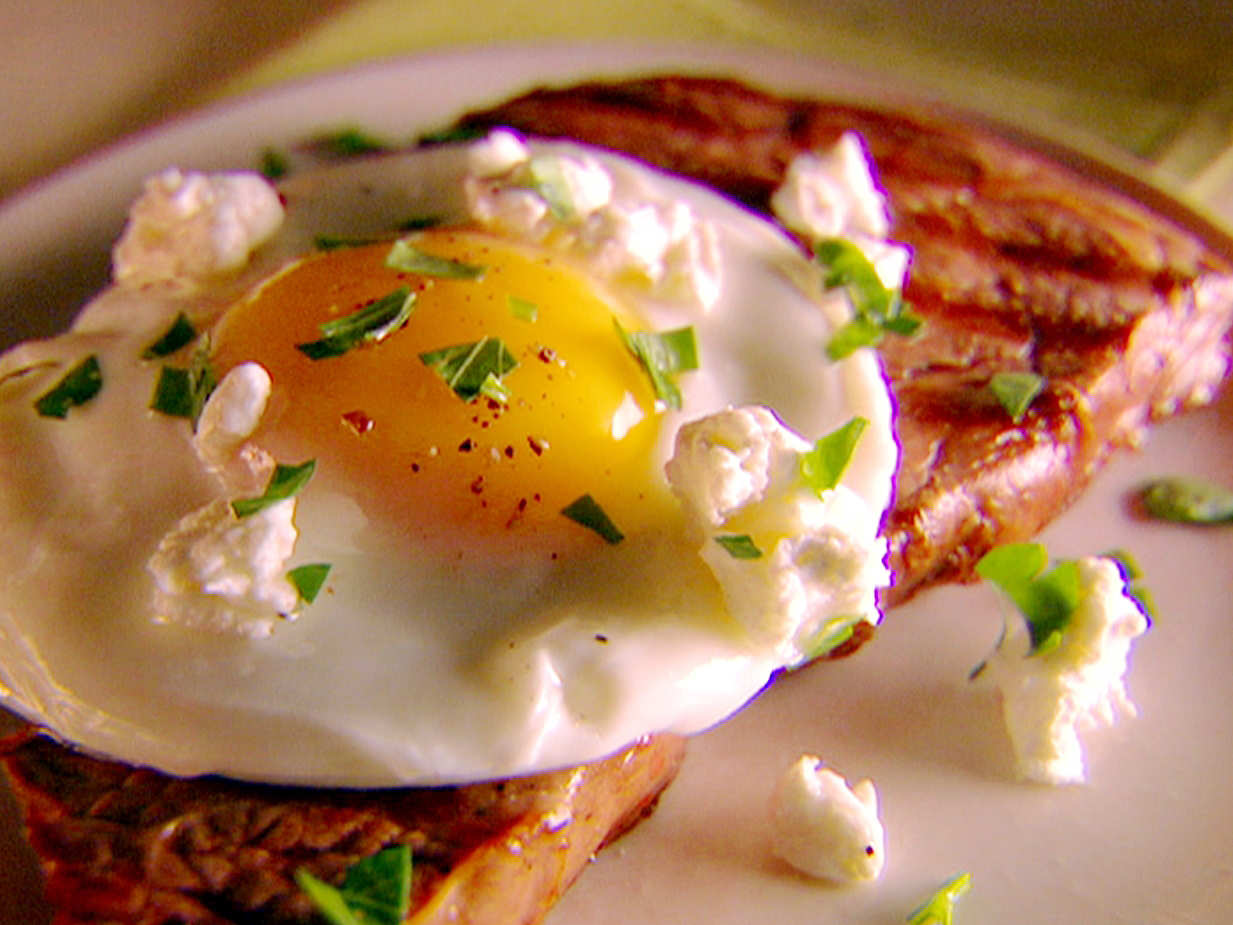fried egg: (79, 212, 794, 706)
